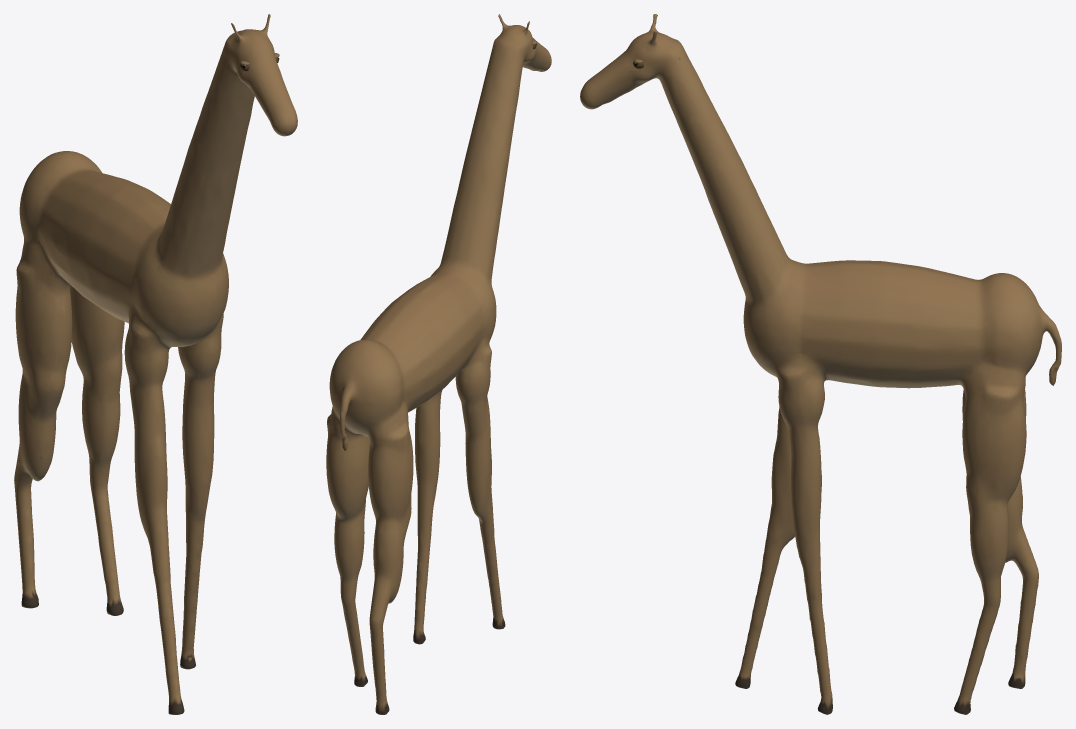
File: AepycamelusGiraffinus.fbx
3 renders of one model, left to right at view 1: azimuth 30°, elevation 25°; view 2: azimuth 150°, elevation 25°; view 3: azimuth 270°, elevation 25°, orthographic. The views are drawn at different scales.
Parts seen in each view (by area): view 1: AepycamelusGiraffinus; view 2: AepycamelusGiraffinus; view 3: AepycamelusGiraffinus.
Part boxes in pixels (x1,y1,x2,y2): AepycamelusGiraffinus: (14, 14, 297, 714); AepycamelusGiraffinus: (326, 14, 551, 714); AepycamelusGiraffinus: (580, 14, 1061, 714).
Size of the model in its own units: 0.3692 by 2.61 by 1.68.
